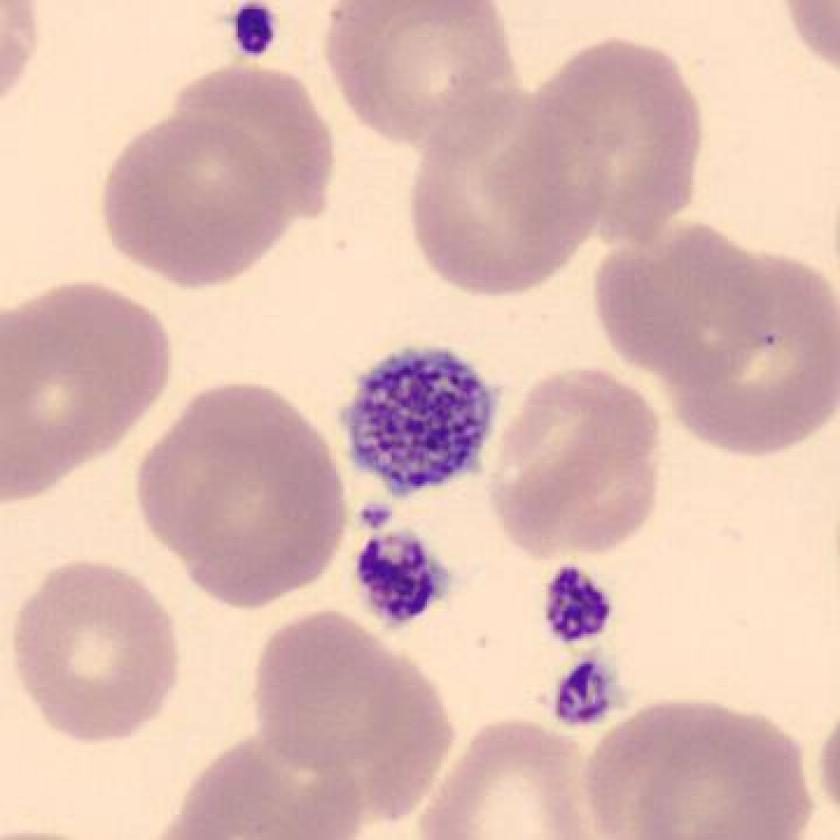platelets: (344, 344, 503, 499), (347, 522, 459, 631), (538, 557, 624, 647), (547, 654, 629, 735), (213, 1, 288, 68)
